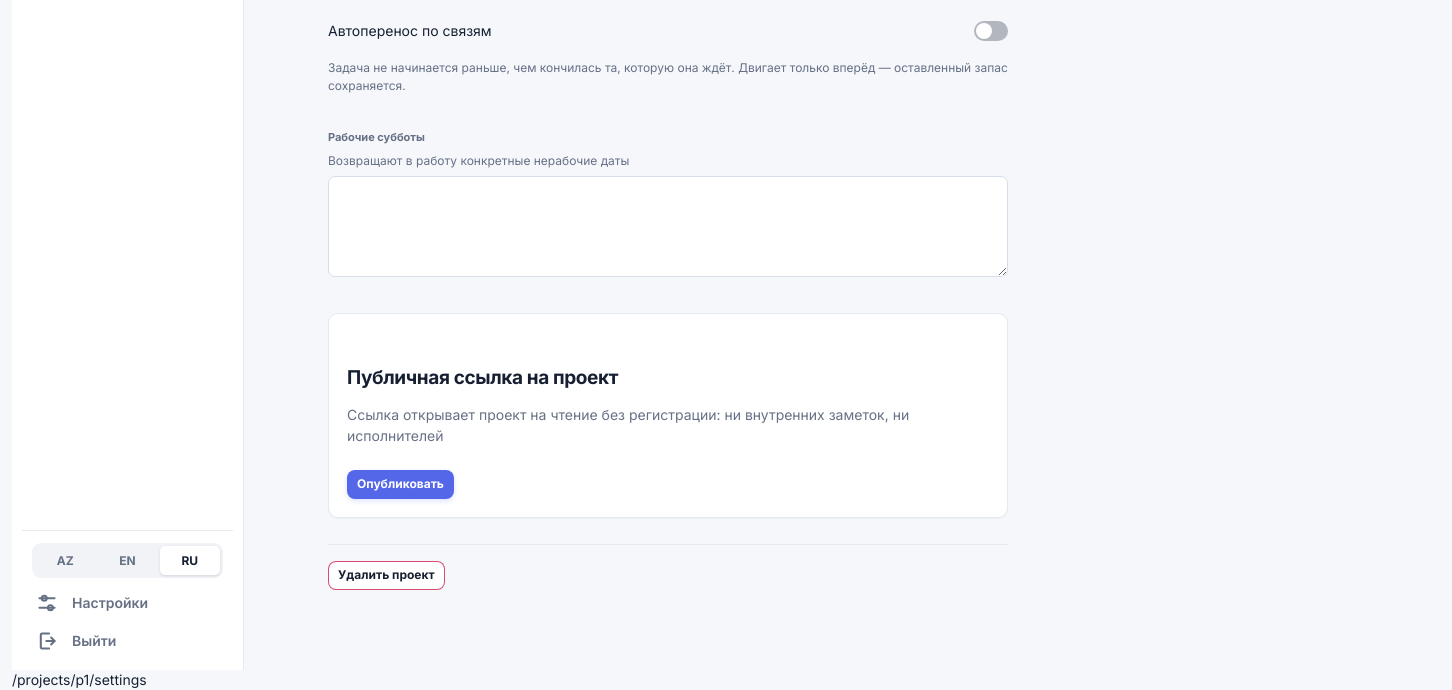
Test: публичная ссылка в настройках проекта › первый выпуск остаётся выпуском
The width and height of the screenshot is (1452, 690).
(page scrolled)
Step 1. Click the button "Опубликовать" → {"x": 400, "y": 484}, box [347,470,454,499]
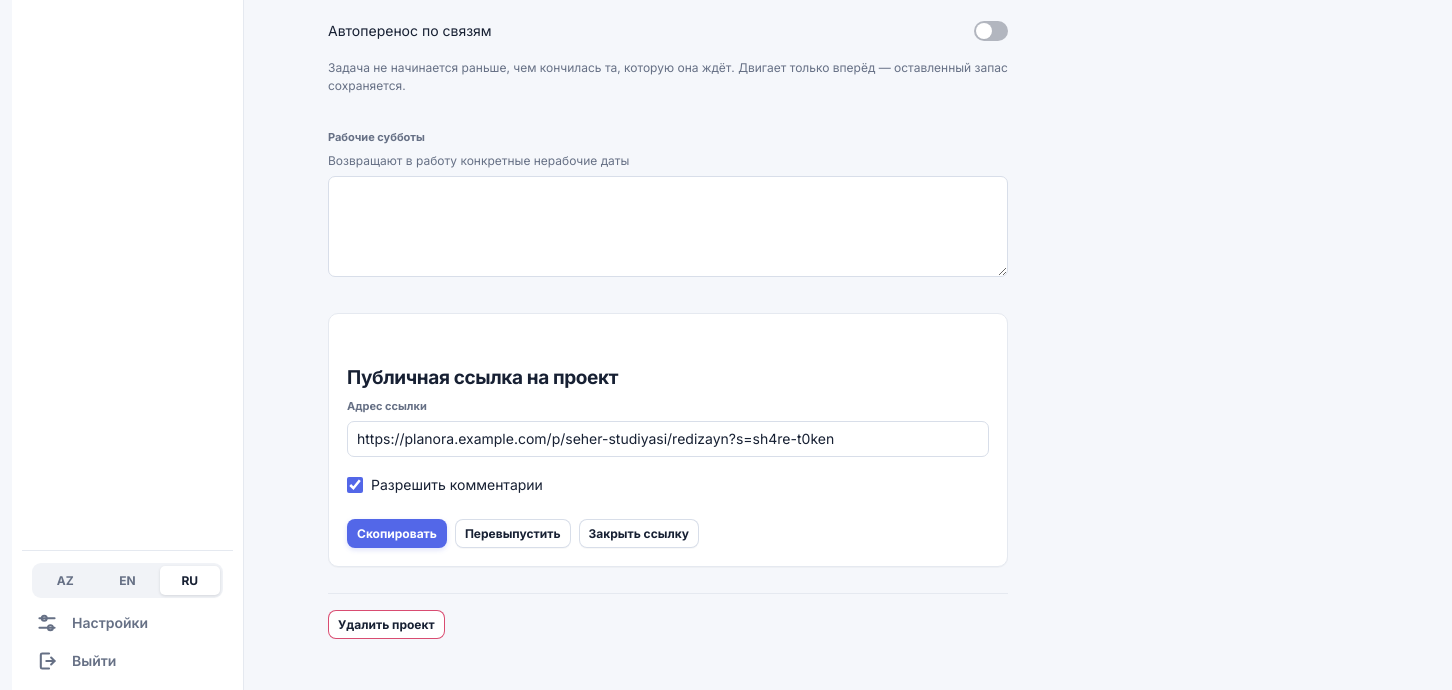
Now the field labelled "Адрес ссылки" holds "https://planora.example.com/p/seher-studiyasi/redizayn?s=sh4re-t0ken", box [347,421,989,457]
